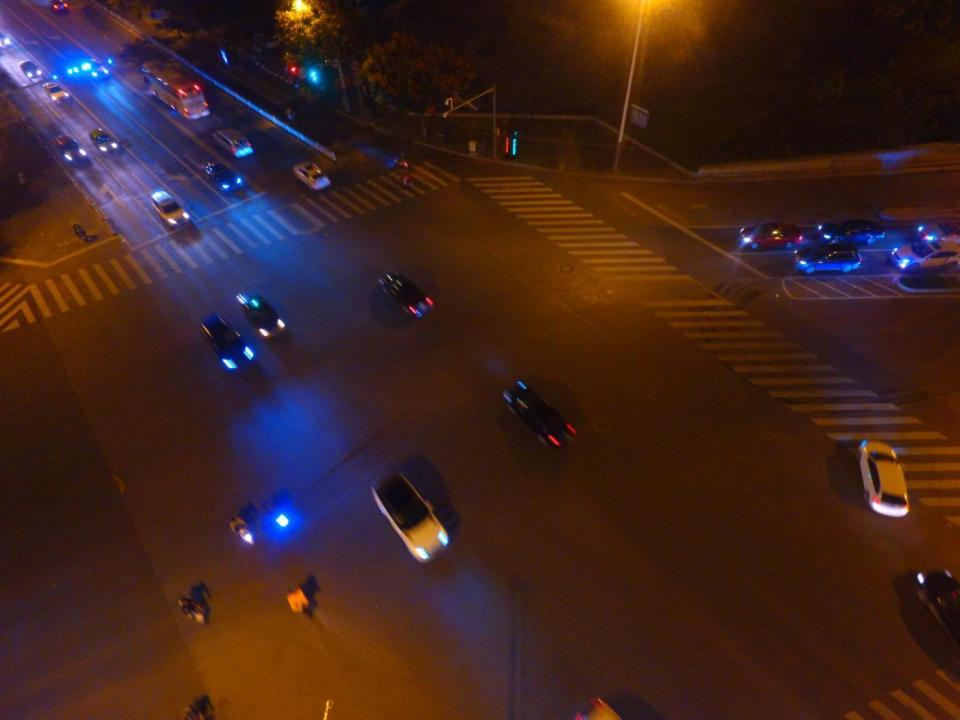bus: (142, 60, 212, 118)
car: (371, 472, 448, 566), (497, 381, 575, 449), (858, 439, 910, 518), (915, 568, 960, 652), (199, 315, 254, 373), (377, 271, 436, 317), (235, 289, 284, 340), (890, 238, 960, 269), (794, 246, 860, 276), (818, 217, 884, 246), (737, 224, 800, 250), (152, 192, 190, 229), (215, 128, 252, 158), (204, 164, 243, 192), (293, 161, 329, 191), (917, 223, 960, 247), (54, 135, 87, 166), (91, 128, 120, 154), (41, 82, 69, 106), (84, 60, 108, 82), (48, 0, 68, 12)
van: (18, 62, 40, 83)
